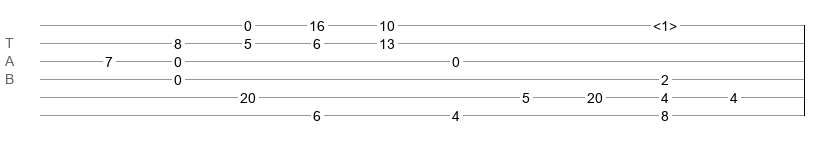0: (174, 54, 182, 64), (174, 72, 182, 82), (244, 18, 252, 28), (452, 54, 460, 64)
10: (379, 18, 395, 28)
13: (379, 36, 395, 46)
16: (309, 18, 325, 28)
2: (661, 72, 669, 82)
20: (240, 90, 256, 100), (587, 90, 603, 100)
4: (452, 108, 460, 118), (661, 90, 669, 100), (730, 90, 738, 100)
5: (244, 36, 252, 46), (522, 90, 530, 100)
6: (313, 36, 321, 46), (313, 108, 321, 118)
7: (105, 54, 113, 64)
8: (174, 36, 182, 46), (661, 108, 669, 118)
harmonic: (653, 18, 677, 28)
